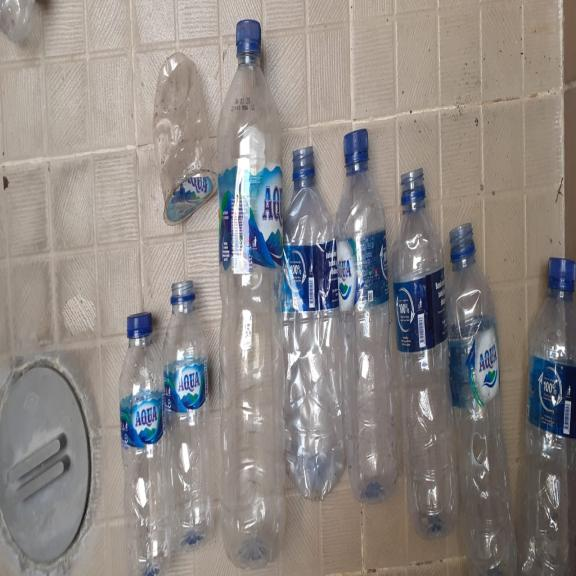Plastik: (218, 20, 286, 570), (390, 168, 460, 540), (447, 221, 519, 576), (281, 145, 349, 503), (336, 127, 400, 507), (521, 256, 576, 576), (164, 277, 217, 553), (119, 308, 171, 576)
